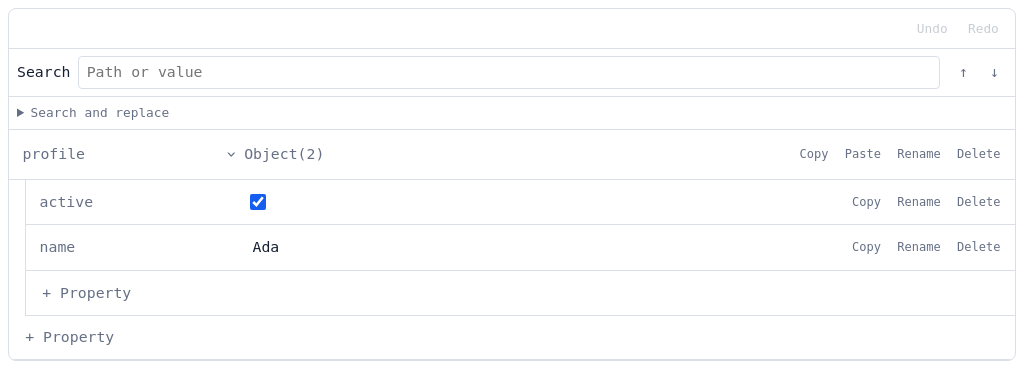
Test: ObjectEditor › copies node values through the clipboard capability
Click the button with aria-label "Copy profile" at [814, 154], box [793,141,835,168]
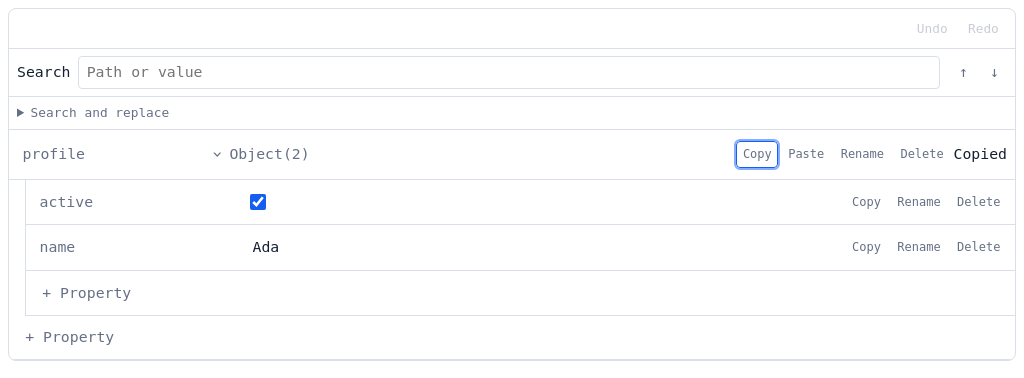
expect the text "Copied" is shown: met, box [954,144,1007,165]
